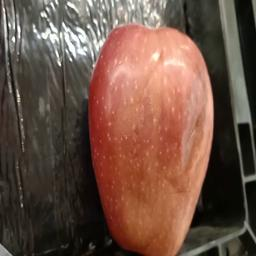Apple Semirotten: (92, 15, 211, 256)
